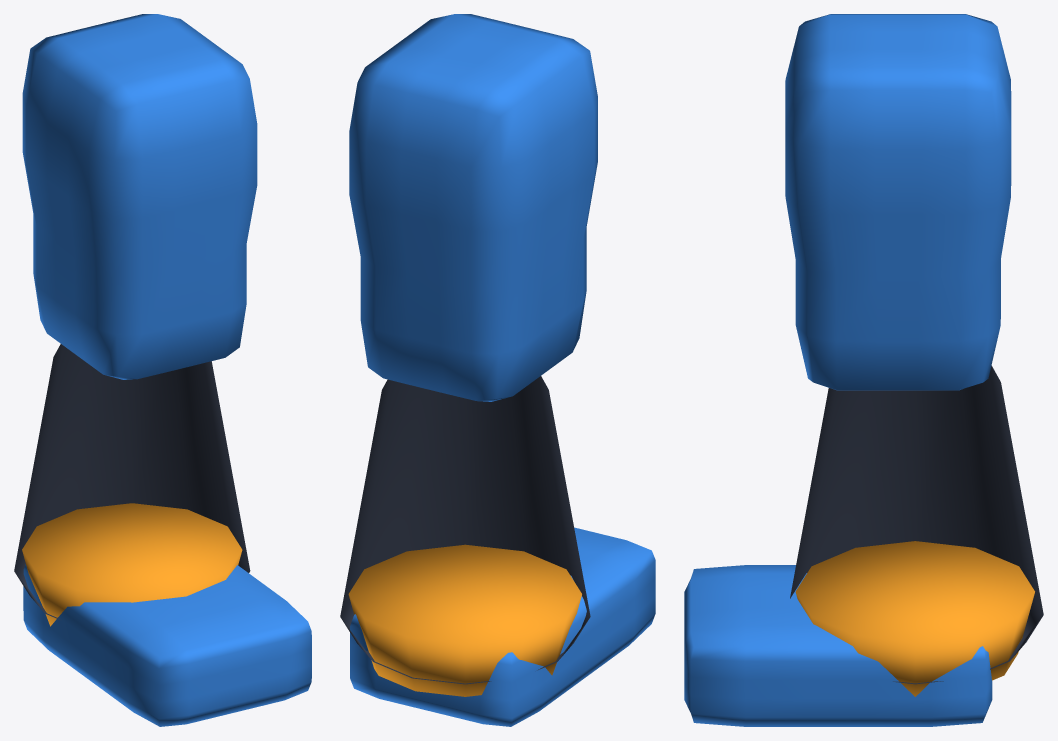
Rendered from leg_hover.obj.
The picture shows the model from 3 angles, left to right: view 1: azimuth 30°, elevation 25°; view 2: azimuth 150°, elevation 25°; view 3: azimuth 270°, elevation 25°; orthographic projection. The views are drawn at different scales.
Size of the model in its own units: 0.3 by 0.84 by 0.42.
